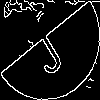J: (25, 25, 67, 78)
